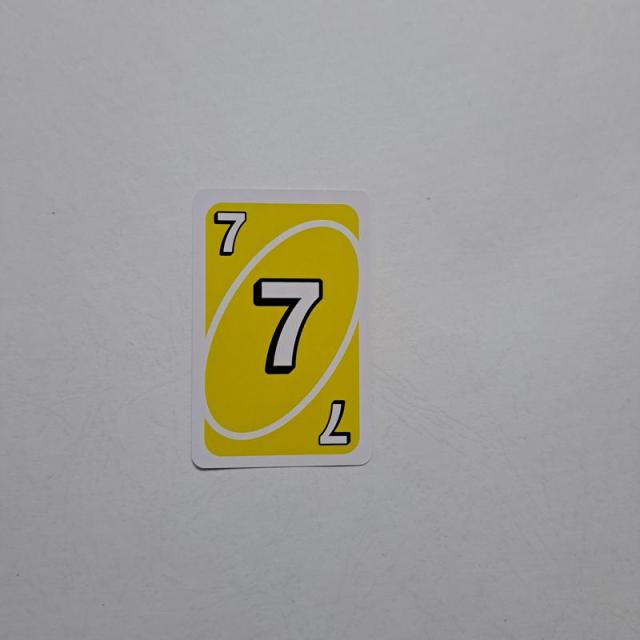Number_7: (211, 206, 248, 260)
Yellow_Card: (198, 194, 367, 460)
